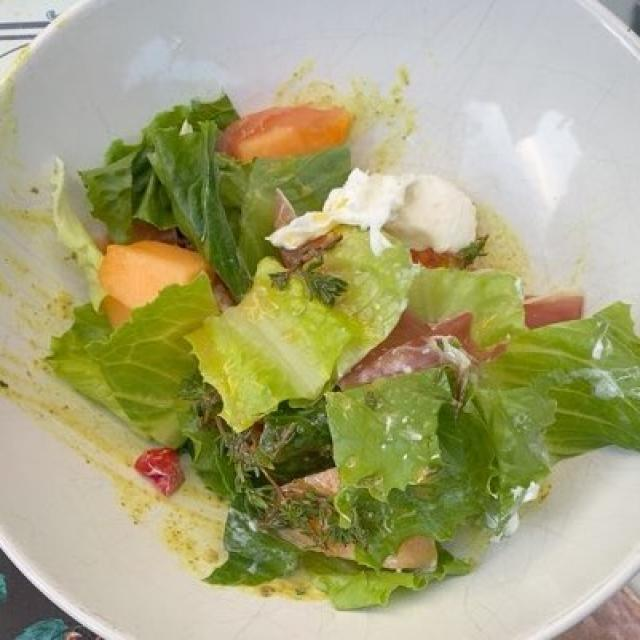ham: (351, 323, 490, 375)
melon: (82, 229, 202, 331)
salad: (55, 91, 622, 612)
